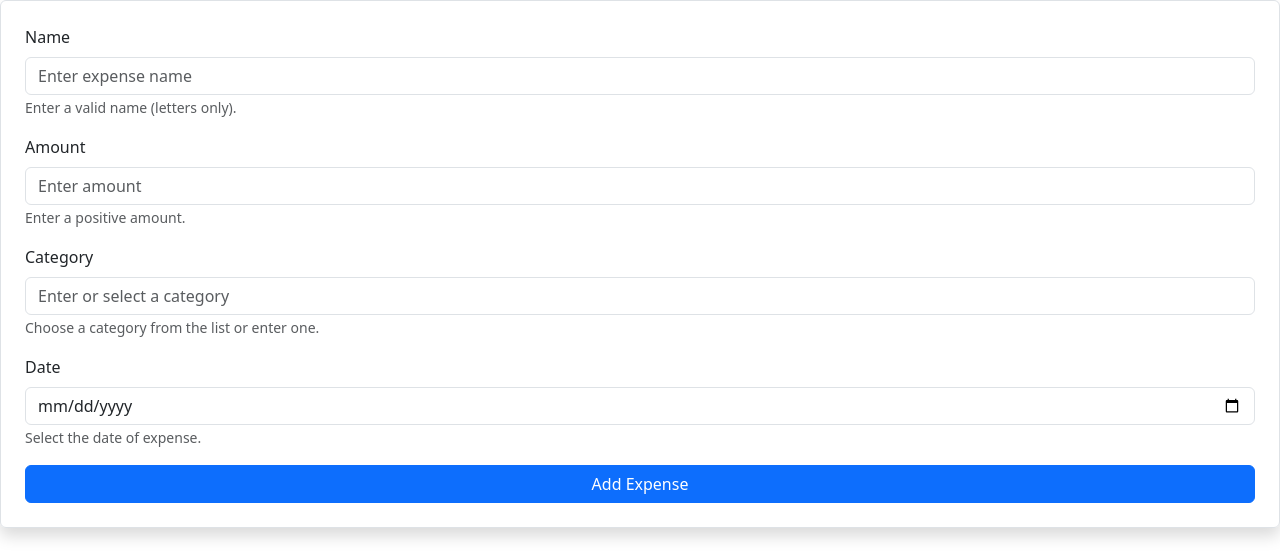
Test case: AddExpenseForm Component › clears form after submission
Type "Groceries" into the field labelled "Name".
click(640, 76); type("Groceries")  # box [25,57,1255,95]
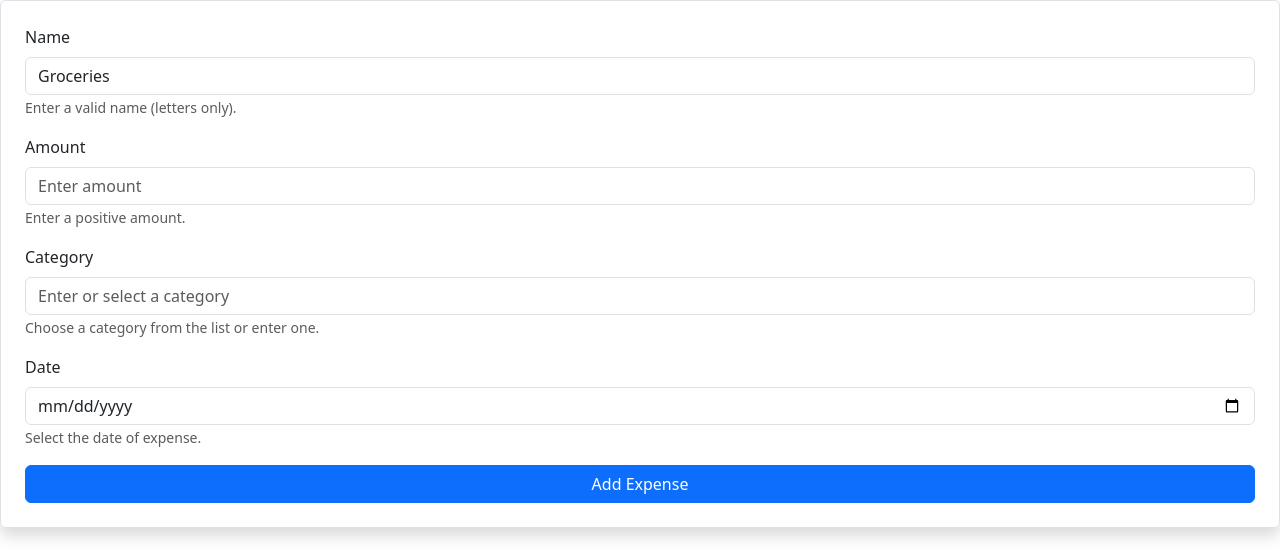
Type "50" into the number field labelled "Amount".
click(640, 186); type("50")  # box [25,167,1255,205]
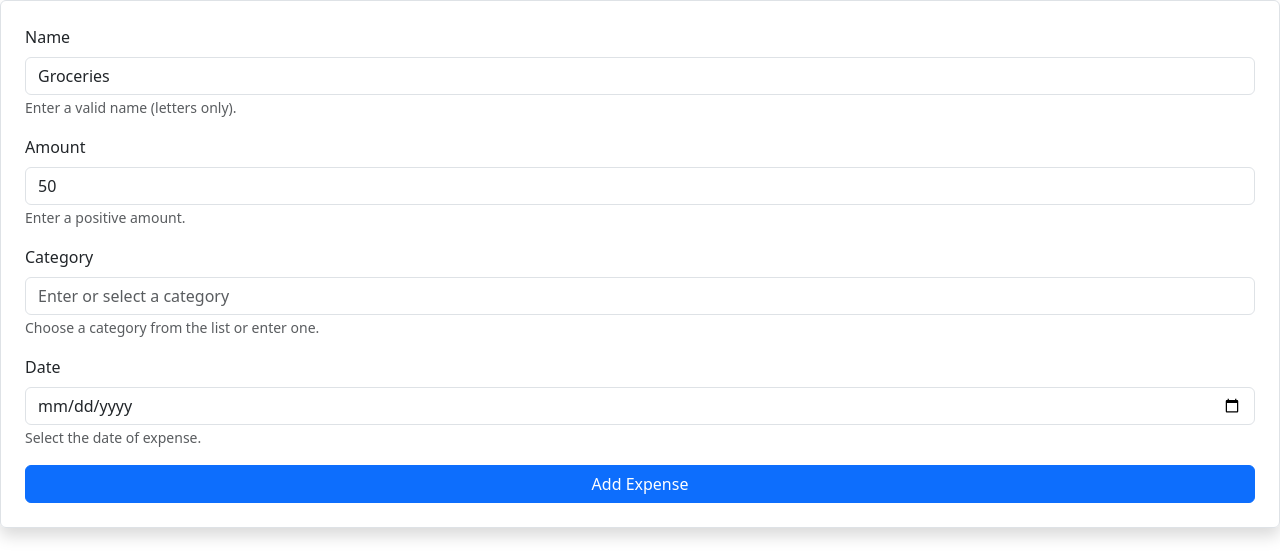
Type "Food" into the field labelled "Category".
click(640, 296); type("Food")  # box [25,277,1255,315]
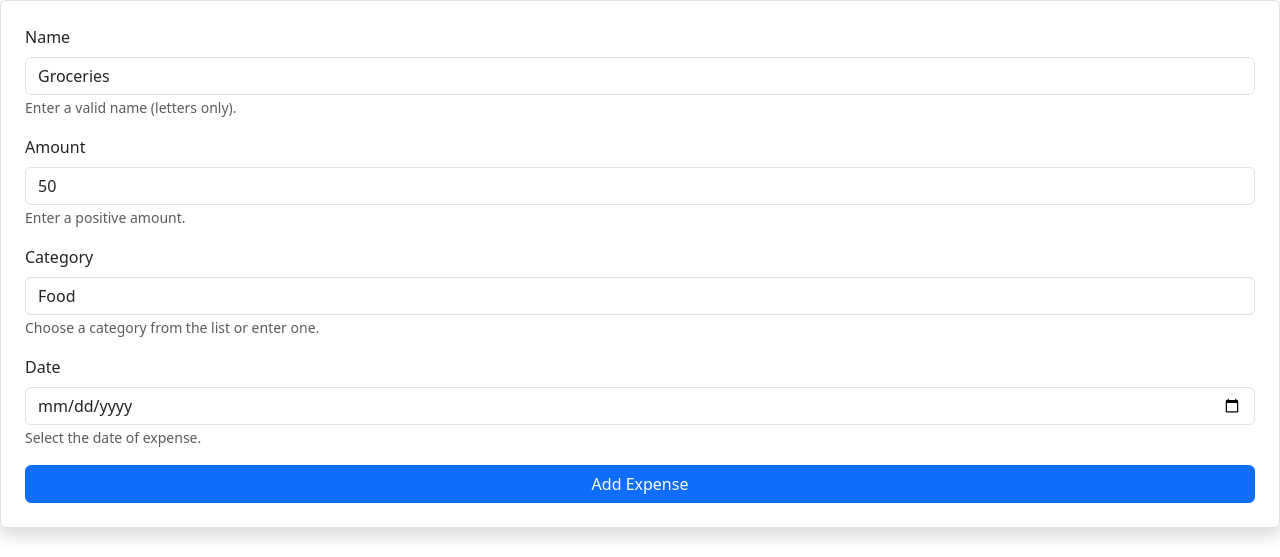
Type "2024-01-20" into the date field labelled "Date".
click(640, 406); type("2024-01-20")  # box [25,387,1255,425]
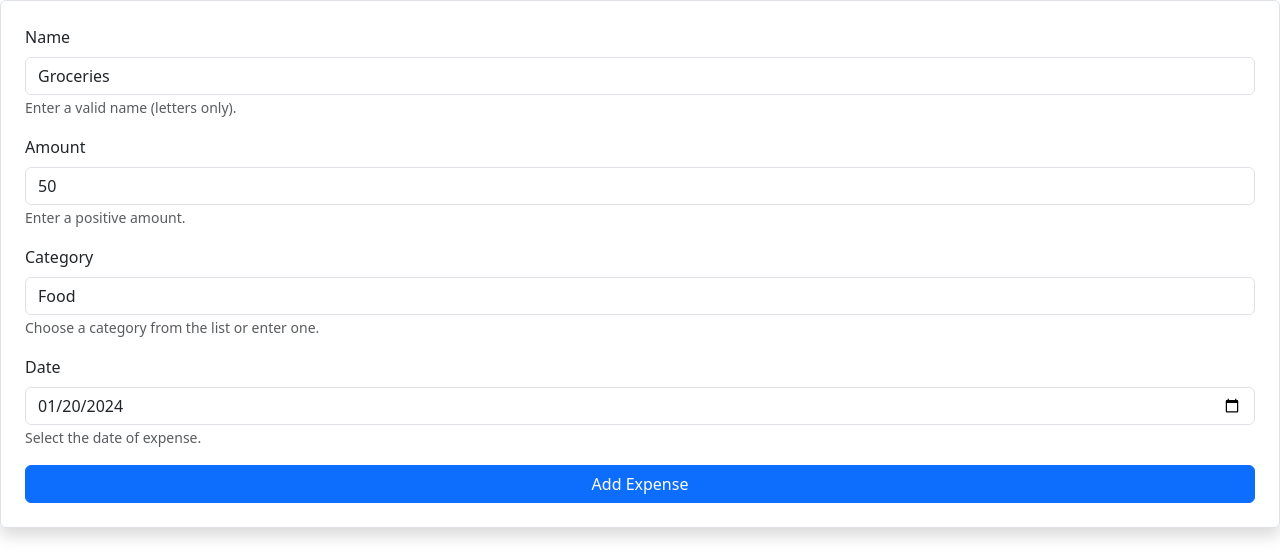
Submit the form named "Expense Form"
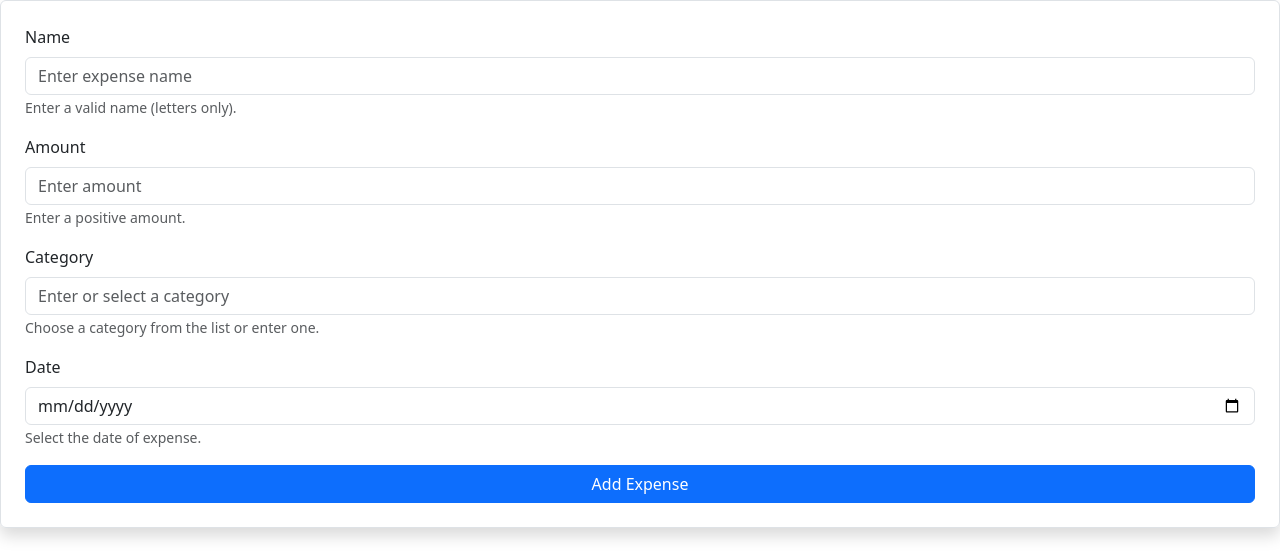
Expected: the field labelled "Name" is empty, [25,57,1255,95]
Expected: the number field labelled "Amount" is not empty, [25,167,1255,205]
Expected: the field labelled "Category" is empty, [25,277,1255,315]
